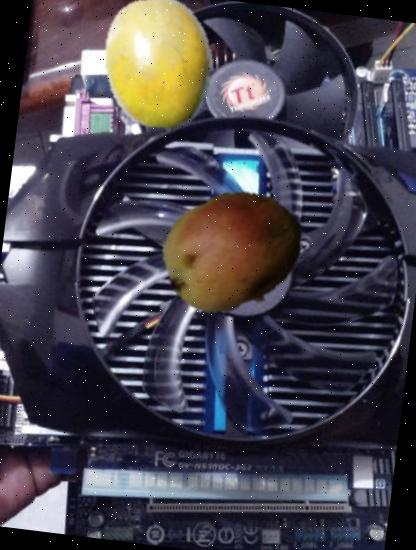Maracuja: (82, 0, 235, 139)
Papaya: (152, 169, 315, 332)
